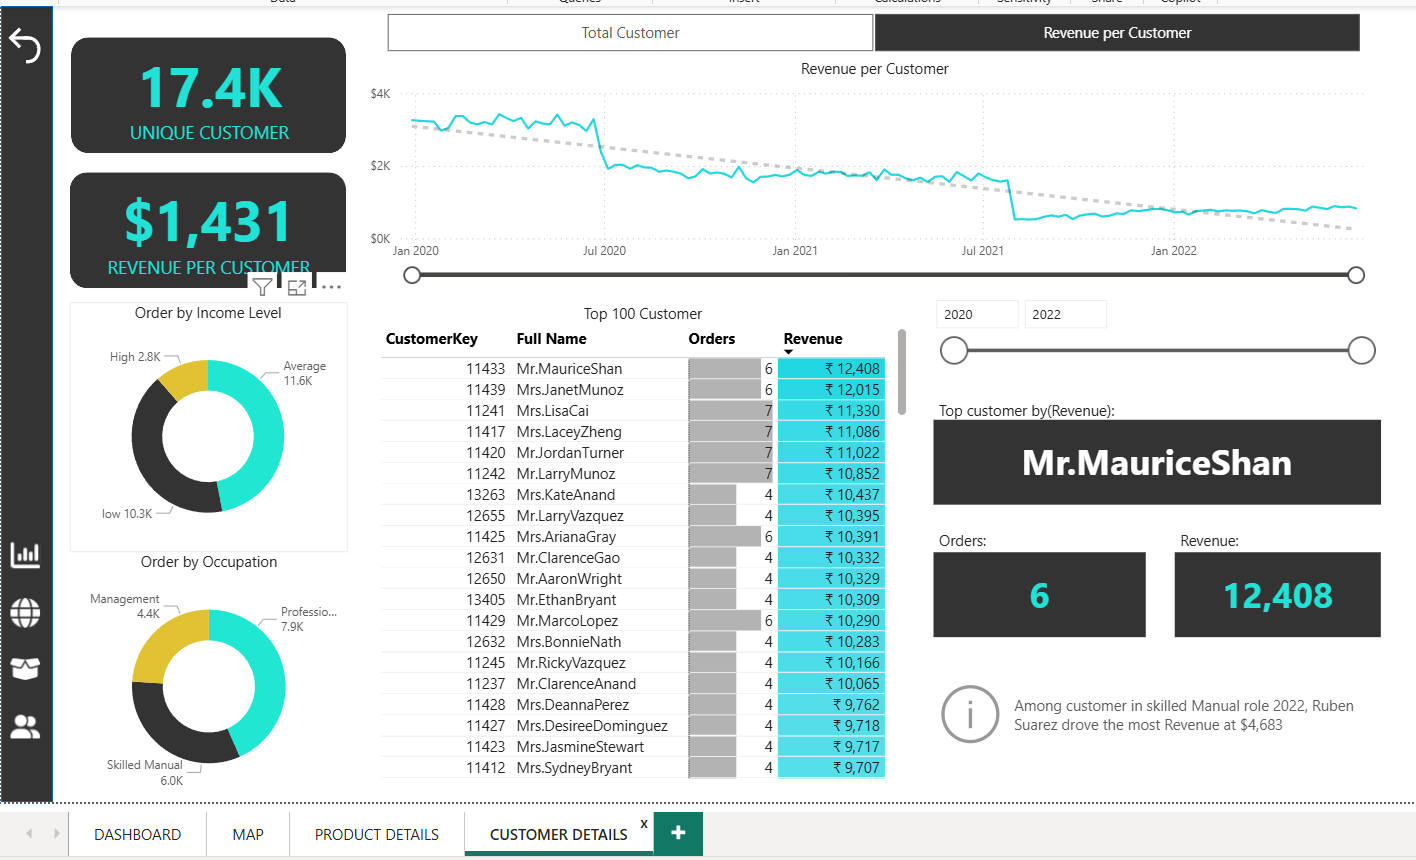

The dashboard page shown, as its layout file describes it:
{"tool":"powerbi","page":{"name":"CUSTOMER DETAILS","canvas":[1280,720],"ordinal":3},"visuals":[{"type":"shape","box":[0,0,47,720.5],"z":0},{"type":"shape","box":[63.8,28.8,248.8,105],"z":1000},{"type":"actionButton","box":[4.7,471.8,34.8,51.5],"z":1000,"group":"g1"},{"type":"card","fields":{"Values":["Measure table.Total Customer"]},"box":[72.5,28.8,232.5,106.2],"z":2000},{"type":"actionButton","box":[4.7,523.3,34.8,51.5],"z":2000,"group":"g1"},{"type":"shape","box":[62.5,150,250,105],"z":3000},{"type":"actionButton","box":[4.7,574.8,34.8,51.5],"z":3000,"group":"g1"},{"type":"card","fields":{"Values":["Measure table.Average revenue per Customer"]},"box":[71.2,150,233.8,105],"z":4000},{"type":"actionButton","box":[4.7,626.3,34.8,51.5],"z":4000,"group":"g1"},{"type":"lineChart","fields":{"Y":["Measure table.Average revenue per Customer"],"Category":["Calendar Lookup.Year","Calendar Lookup.Start of Week","Calendar Lookup.Start of Month"]},"box":[329.1,47,922.9,206.9],"z":5000},{"type":"donutChart","title":"Order by Income Level","fields":{"Category":["Customer Lookup.Income Level"],"Y":["Measure table.Total Order"]},"box":[62.6,268.5,250.4,225.4],"z":6000},{"type":"donutChart","title":"Order by Occupation","fields":{"Y":["Measure table.Total Order"],"Category":["Customer Lookup.Occupation"]},"box":[63.1,492.6,249.7,227.8],"z":7000},{"type":"tableEx","title":"Top 100 Customer","fields":{"Values":["Customer Lookup.CustomerKey","Customer Lookup.Full Name","Measure table.Total Order","Measure table.Total Revenue"]},"box":[336.4,269.4,487.5,434.7],"z":8000},{"type":"card","fields":{"Values":["Measure table.Full Name(CD)"]},"box":[843.4,374.6,404.8,76.8],"z":9000},{"type":"card","fields":{"Values":["Measure table.Total Orders (customer Detail)"]},"box":[843.4,494,192.1,76.8],"z":10000},{"type":"card","fields":{"Values":["Measure table.Total Revenue (customer Detail)"]},"box":[1061.5,494,186.6,76.8],"z":11000},{"type":"textbox","box":[843.4,351.3,192.1,35.7],"z":12000},{"type":"textbox","box":[843.4,469.3,192.1,35.7],"z":13000},{"type":"textbox","box":[1061.5,469.3,134.5,35.7],"z":14000},{"type":"slicer","fields":{"Values":["Calendar Lookup.Year"]},"box":[833.3,255.5,418.3,87.1],"z":15000},{"type":"actionButton","box":[843.1,606.6,404.9,66.8],"z":16000},{"type":"actionButton","box":[0,12.8,43.1,46.6],"z":17000},{"type":"group","id":"g1","title":"Navigation","box":[4.7,471.8,34.9,206.2],"z":18000},{"type":"slicer","fields":{"Values":["Customer Matric Selection.Customer Matric Selection"]},"box":[329,0,919.2,47.5],"z":19000}]}

Visuals, with their boxes on the page's 1280x720 design canvas (x1, y1, x2, y2). These are canvas units, not pixel positions in the 1416x860 screenshot, which may show the page scaled, cropped or inside an application window:
shape: x1=0 y1=0 x2=47 y2=720
shape: x1=64 y1=29 x2=313 y2=134
actionButton: x1=5 y1=472 x2=40 y2=523
card - Measure table.Total Customer: x1=72 y1=29 x2=305 y2=135
actionButton: x1=5 y1=523 x2=40 y2=575
shape: x1=62 y1=150 x2=312 y2=255
actionButton: x1=5 y1=575 x2=40 y2=626
card - Measure table.Average revenue per Customer: x1=71 y1=150 x2=305 y2=255
actionButton: x1=5 y1=626 x2=40 y2=678
lineChart - Measure table.Average revenue per Customer x Calendar Lookup.Year: x1=329 y1=47 x2=1252 y2=254
"Order by Income Level" donutChart: x1=63 y1=268 x2=313 y2=494
"Order by Occupation" donutChart: x1=63 y1=493 x2=313 y2=720
"Top 100 Customer" tableEx: x1=336 y1=269 x2=824 y2=704
card - Measure table.Full Name(CD): x1=843 y1=375 x2=1248 y2=451
card - Measure table.Total Orders (customer Detail): x1=843 y1=494 x2=1036 y2=571
card - Measure table.Total Revenue (customer Detail): x1=1062 y1=494 x2=1248 y2=571
textbox: x1=843 y1=351 x2=1036 y2=387
textbox: x1=843 y1=469 x2=1036 y2=505
textbox: x1=1062 y1=469 x2=1196 y2=505
slicer - Calendar Lookup.Year: x1=833 y1=256 x2=1252 y2=343
actionButton: x1=843 y1=607 x2=1248 y2=673
actionButton: x1=0 y1=13 x2=43 y2=59
"Navigation" group: x1=5 y1=472 x2=40 y2=678
slicer - Customer Matric Selection.Customer Matric Selection: x1=329 y1=0 x2=1248 y2=48
